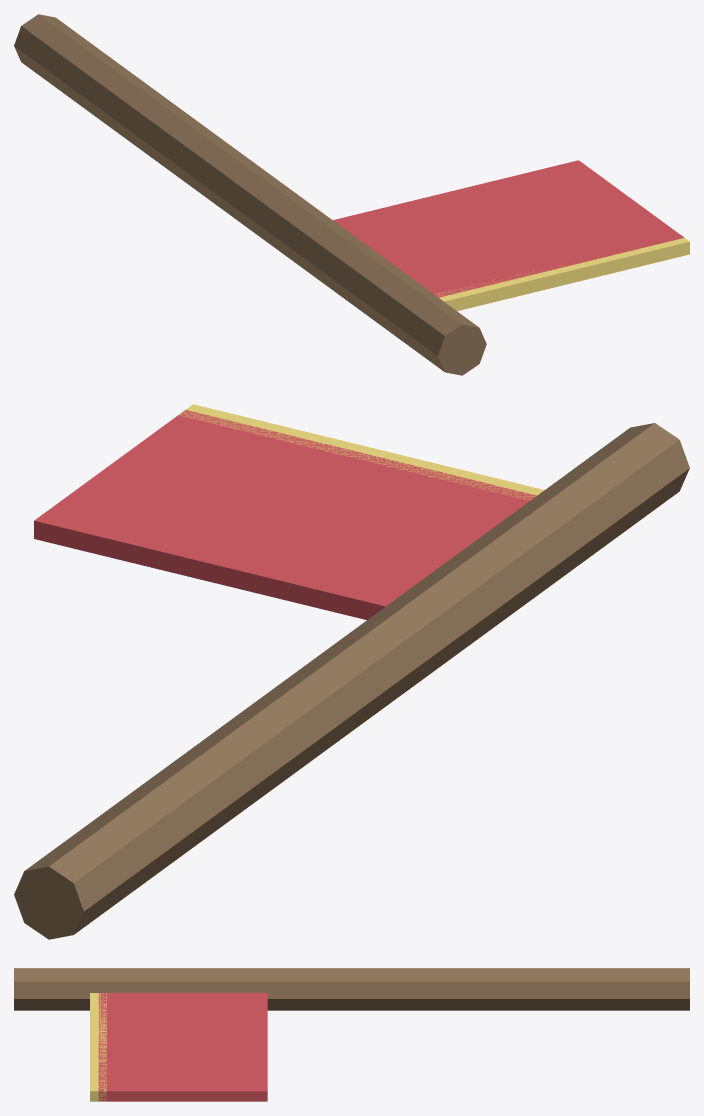
The model's file is quest_objective_flag.glb.
3 views of the same model, one above another, from view 1: azimuth 30°, elevation 25°; view 2: azimuth 150°, elevation 25°; view 3: azimuth 270°, elevation 25° (orthographic). The views are drawn at different scales.
Visible parts, largest first — view 1: pole, flag, trim; view 2: pole, flag, trim; view 3: pole, flag, trim.
Boxes of the visible parts, x1,y1,x2,y2 form: pole: (14, 14, 486, 375); flag: (333, 160, 684, 297); trim: (434, 238, 689, 311); pole: (14, 423, 689, 939); flag: (34, 410, 536, 619); trim: (179, 404, 544, 500); pole: (14, 968, 689, 1010); flag: (98, 993, 267, 1101); trim: (90, 993, 106, 1101).
Size of the model in its own units: 0.98 by 0.16 by 2.4.
